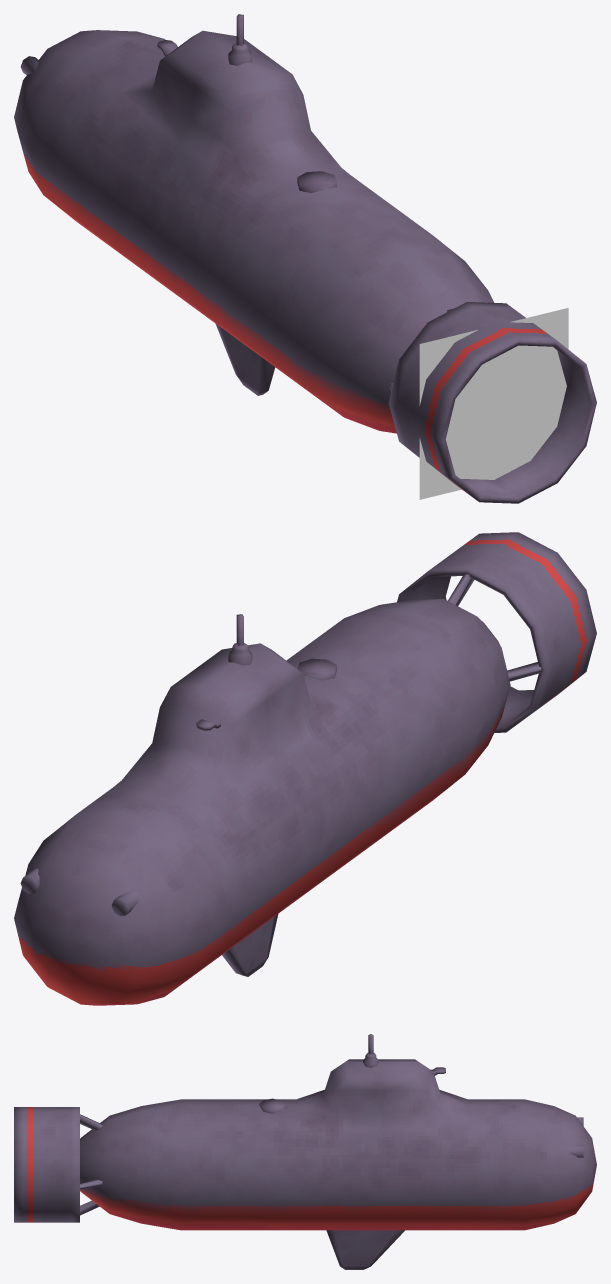
Rendered from submarine.glb.
3 renders of one model, top to bottom at view 1: azimuth 30°, elevation 25°; view 2: azimuth 150°, elevation 25°; view 3: azimuth 270°, elevation 25°, orthographic. The views are drawn at different scales.
Visible parts, largest first — view 1: MainHull, TailShroud, Propeller, Keel, Hatch; view 2: MainHull, TailShroud, Keel, Light, TailShroudStruts, Hatch; view 3: MainHull, TailShroud, Keel, TailShroudStruts.
Boxes of the visible parts, box(x1,y1,x2,y2) form: MainHull: box(14, 30, 494, 433); TailShroud: box(388, 302, 596, 503); Propeller: box(419, 308, 568, 499); Keel: box(215, 323, 275, 395); Hatch: box(297, 171, 336, 193); MainHull: box(14, 599, 510, 1005); TailShroud: box(397, 532, 596, 732); Keel: box(222, 914, 278, 976); Light: box(20, 868, 138, 916); TailShroudStruts: box(448, 573, 541, 681); Hatch: box(297, 658, 336, 680); MainHull: box(80, 1059, 596, 1230); TailShroud: box(14, 1107, 79, 1222); Keel: box(326, 1230, 404, 1269); TailShroudStruts: box(80, 1114, 102, 1215).
Size of the model in its own units: 10 by 19.66 by 44.38.
Materials: 1 (1 with a texture image).
